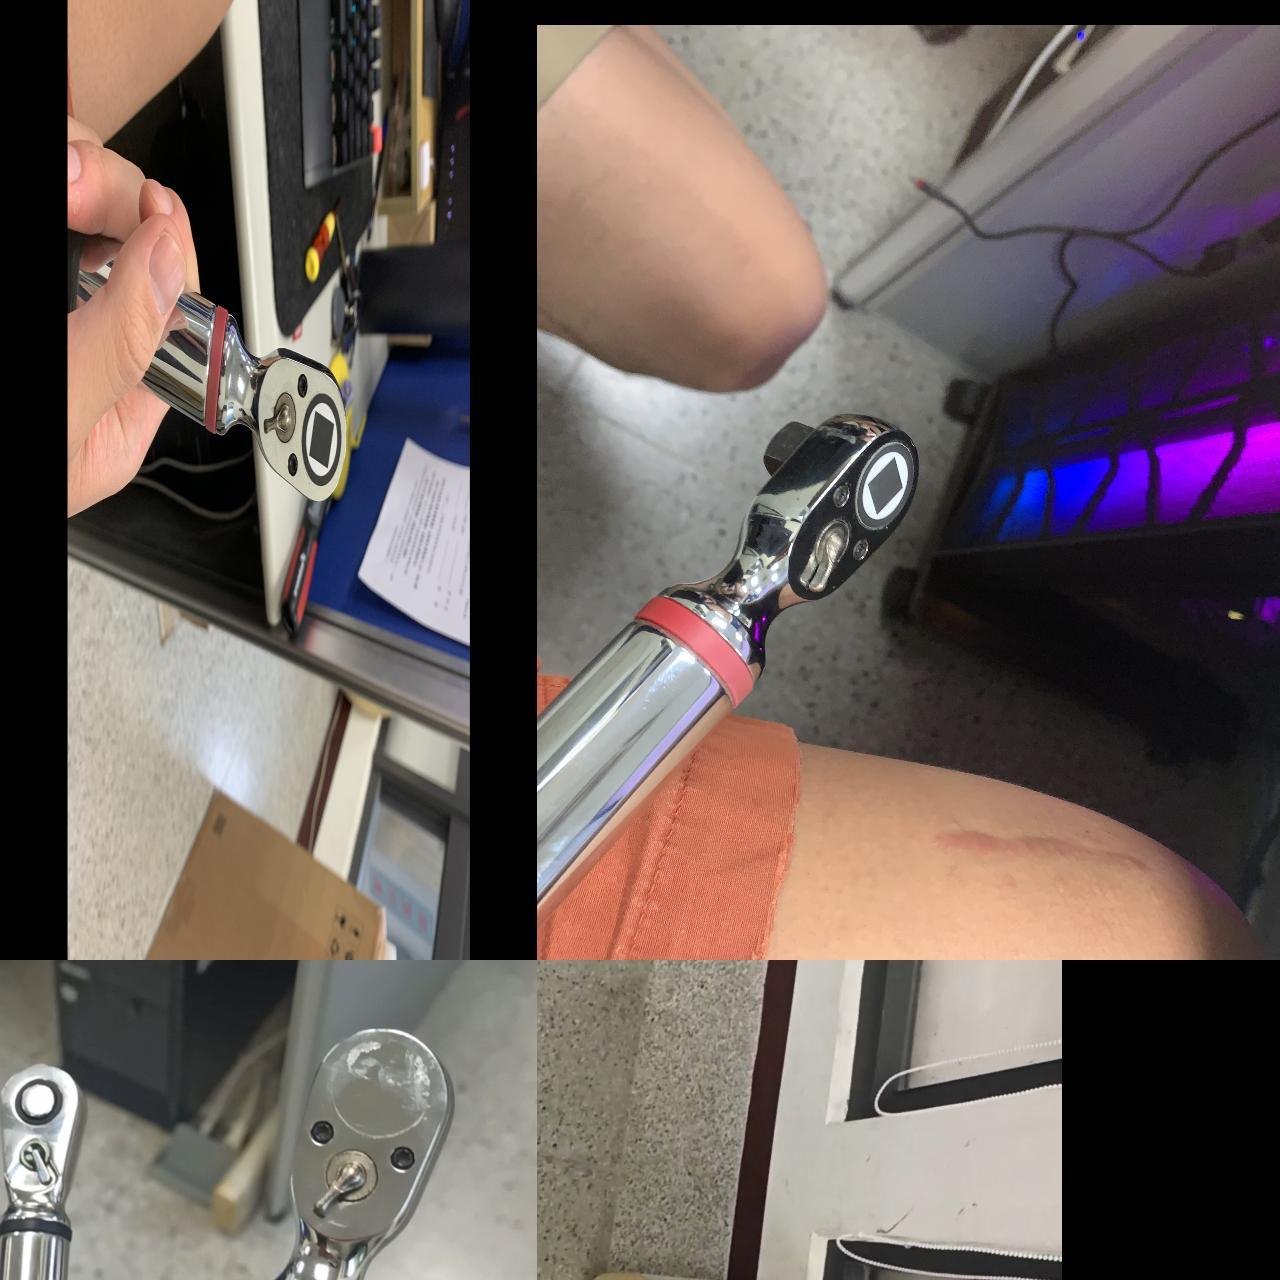Tool: (670, 411, 922, 670), (245, 1013, 455, 1280), (222, 314, 350, 498), (0, 1061, 86, 1235)
